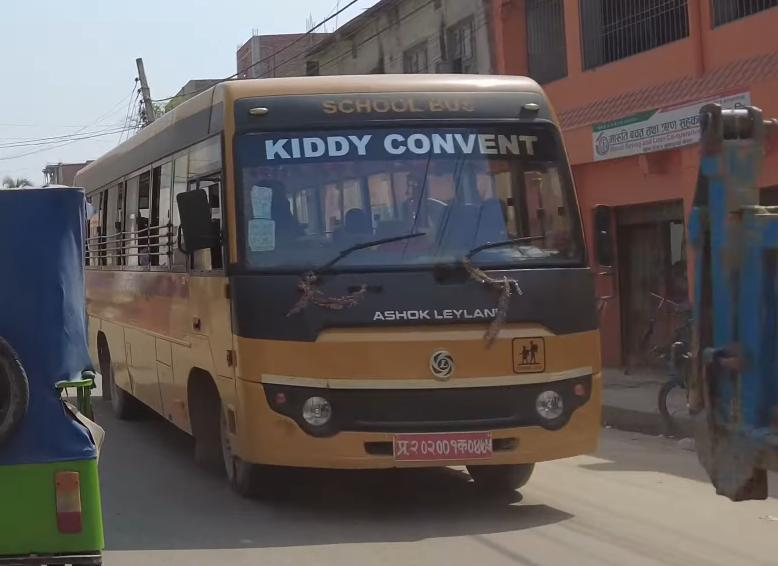e-rickshaw: (1, 162, 118, 566)
school_bus: (71, 65, 612, 509)
